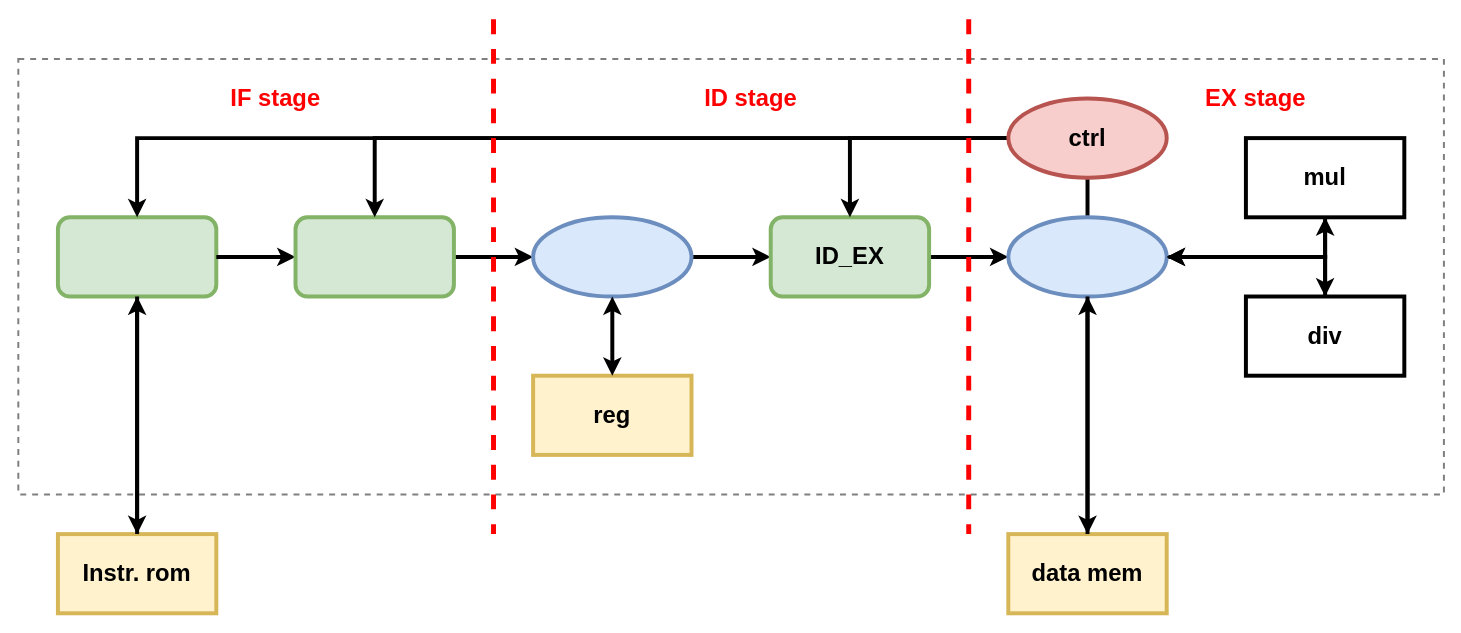
The diagram is 1461 pixels wide and 633 high, and some of its shapes have lost their labels. Each missing label, with the centre of its shape:
ex: (x=1087, y=256)
id: (x=612, y=256)
IF_ID: (x=374, y=256)
PC_REG: (x=136, y=256)
